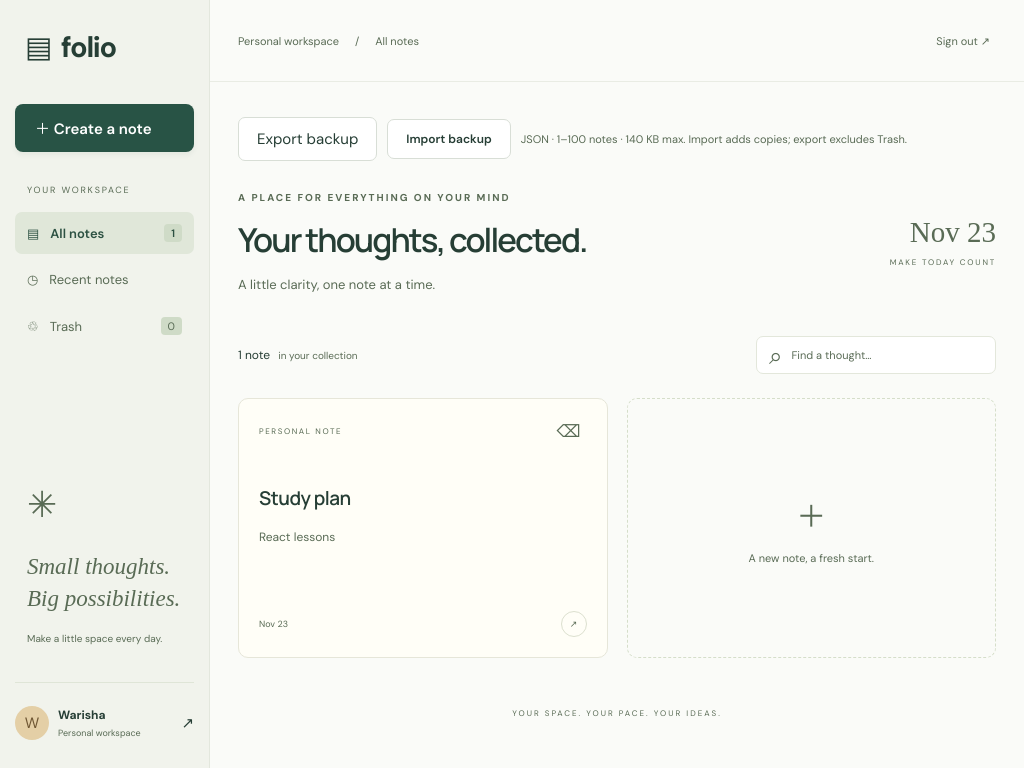
it: profile and signout use current user and clear the workspace
Click the button "W Warisha Personal workspace ↗": click(104, 711) [15,682,194,740]
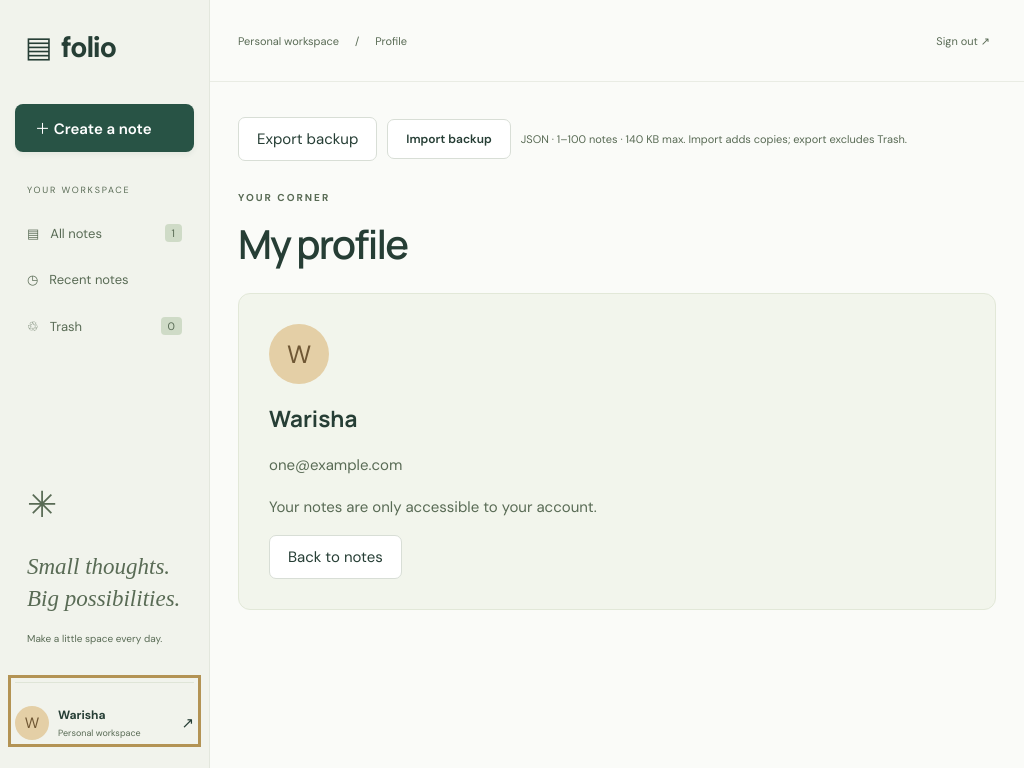
Expected: the text "one@example.com" is shown, [269,455,402,475]
Click the button "Sign out ↗": click(963, 40) [930,32,996,48]
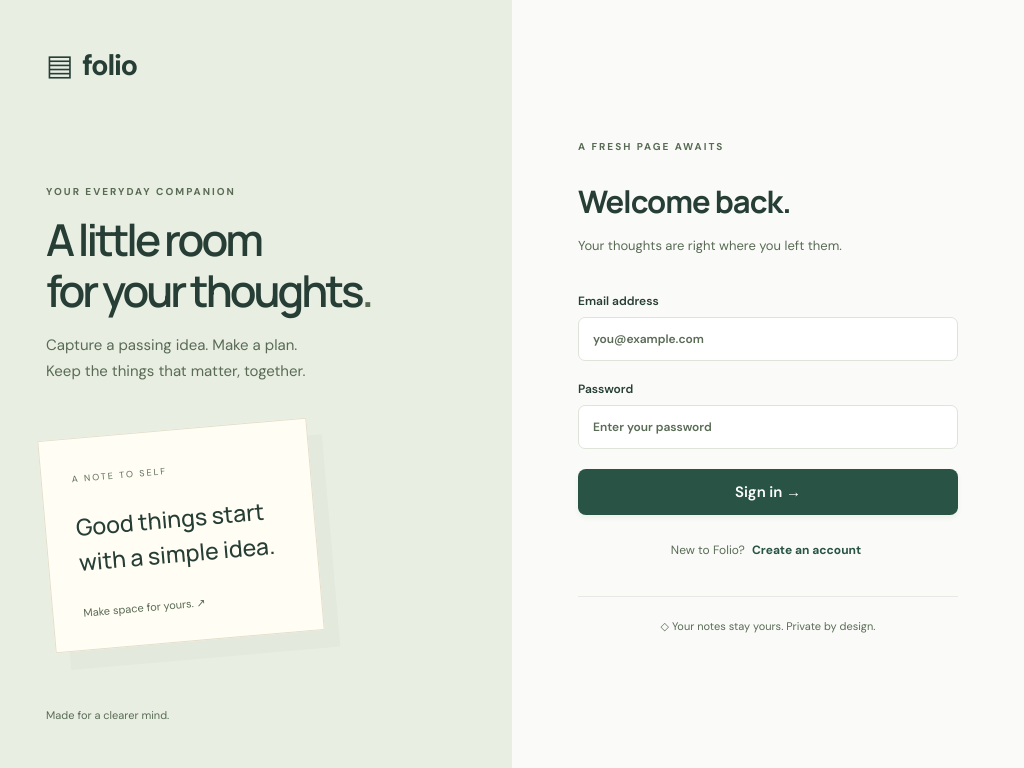
Expected: the heading "Welcome back." is shown, [578,180,791,222]
